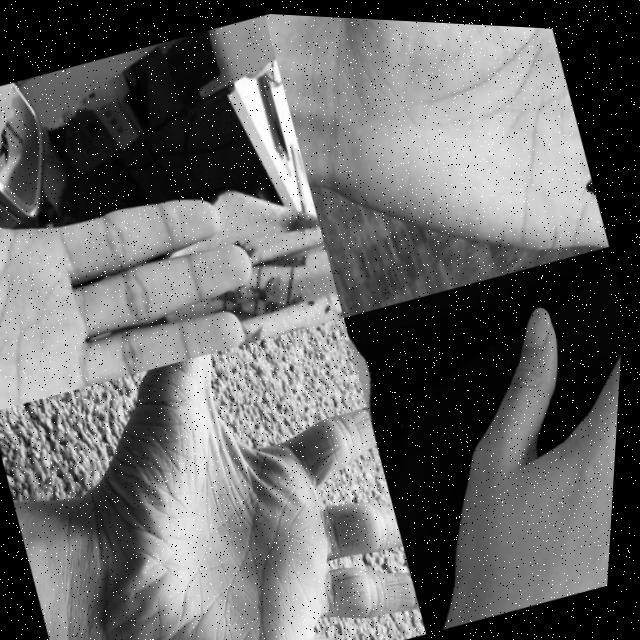no-gloves: (29, 301, 448, 640), (0, 24, 291, 424), (275, 11, 622, 316), (366, 263, 628, 628)
